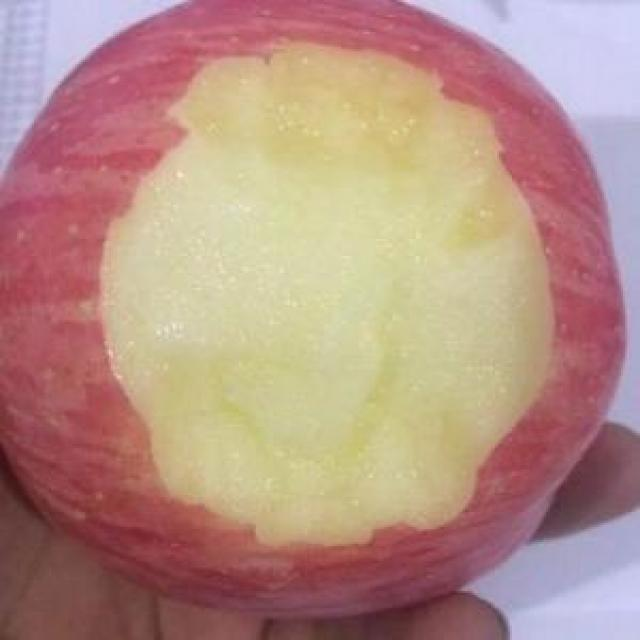Rotten: (0, 0, 623, 617)
